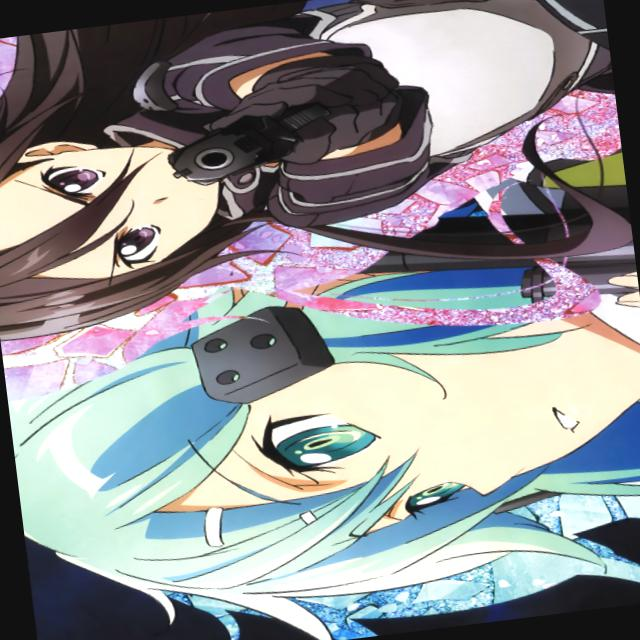handgun: (146, 66, 398, 204)
